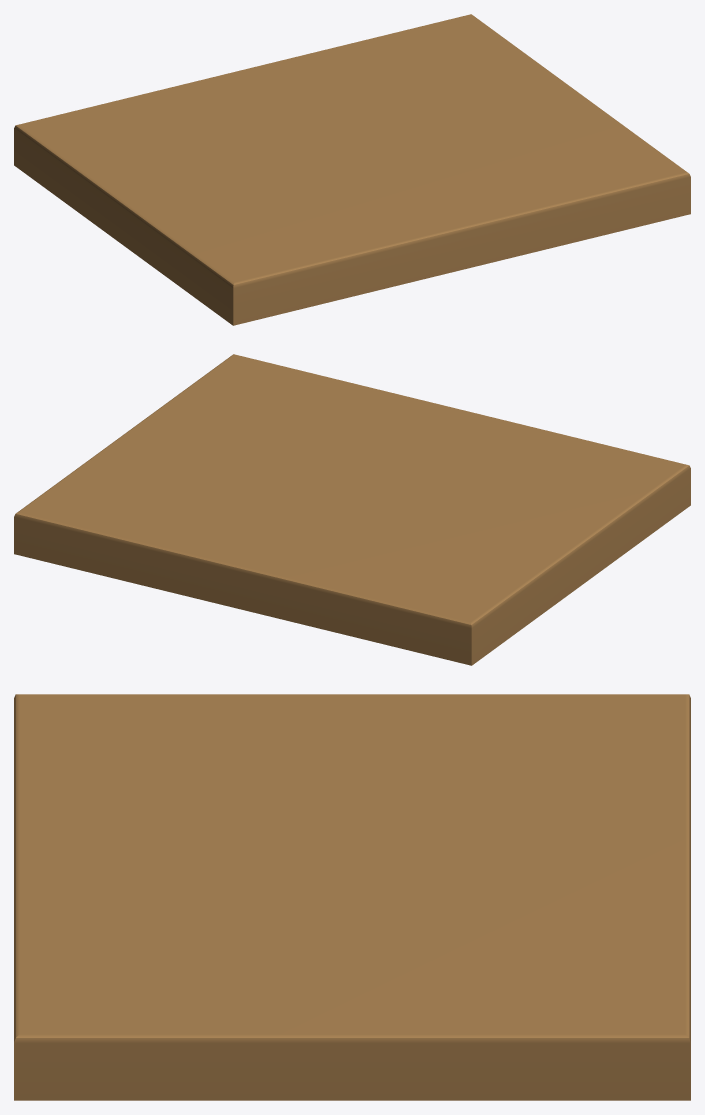
The model's file is plane ground.fbx.
3 views of the same model, one above another, from view 1: azimuth 30°, elevation 25°; view 2: azimuth 150°, elevation 25°; view 3: azimuth 270°, elevation 25° (orthographic). The views are drawn at different scales.
Visible parts, largest first — view 1: plane_Ground; view 2: plane_Ground; view 3: plane_Ground.
Part boxes in pixels (x1,y1,x2,y2): plane_Ground: (14, 14, 690, 325); plane_Ground: (14, 354, 690, 665); plane_Ground: (14, 694, 690, 1100).
Bounding box in the file's own units: 1470 × 127 × 1219.
